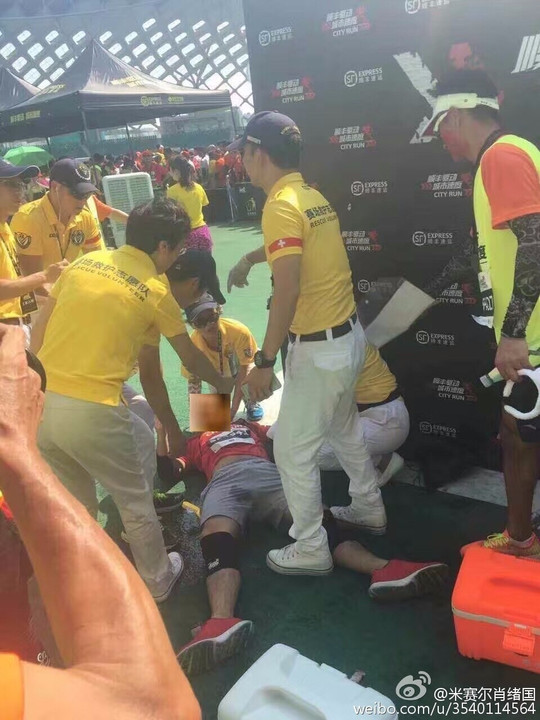10+: (1, 58, 540, 719)
down: (132, 351, 460, 686)
